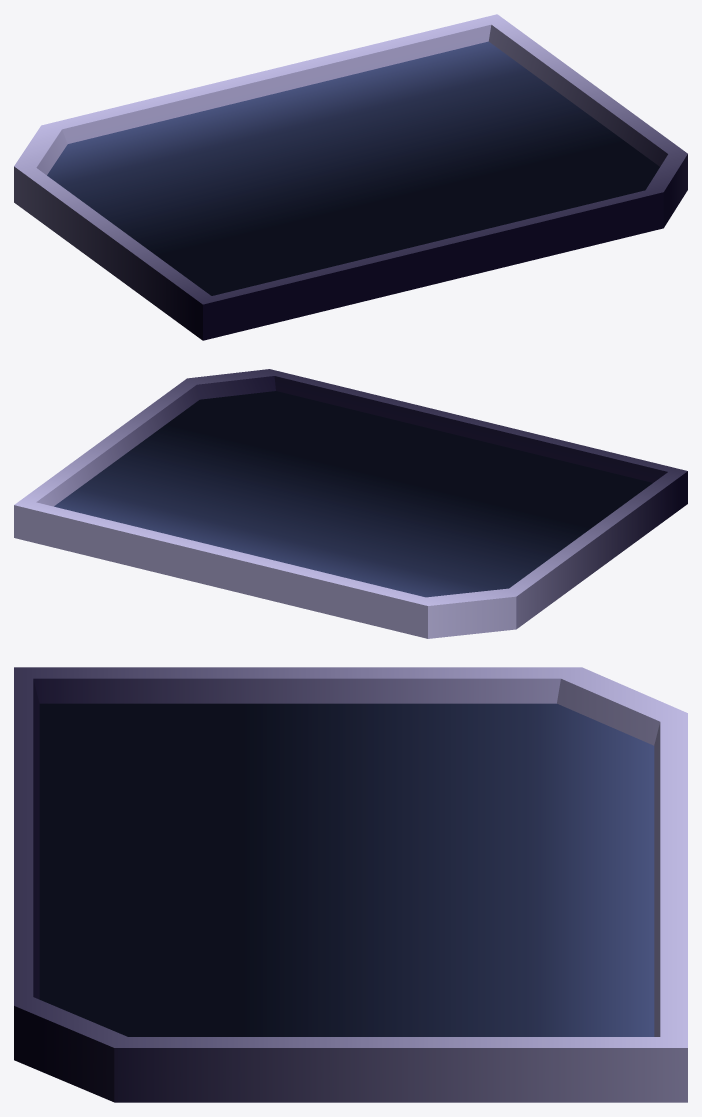
Rendered from Signages_Panel.fbx.
3 views of the same model, one above another, from view 1: azimuth 30°, elevation 25°; view 2: azimuth 150°, elevation 25°; view 3: azimuth 270°, elevation 25° (orthographic). The views are drawn at different scales.
Visible parts, largest first — view 1: Plane.001; view 2: Plane.001; view 3: Plane.001.
Boxes of the visible parts, x1,y1,x2,y2 form: Plane.001: (14,14,687,340); Plane.001: (14,369,687,638); Plane.001: (14,667,687,1102).
Bounding box in the file's own units: 84.38 × 5.63 × 63.15.
Materials: 1 (1 with a texture image).
